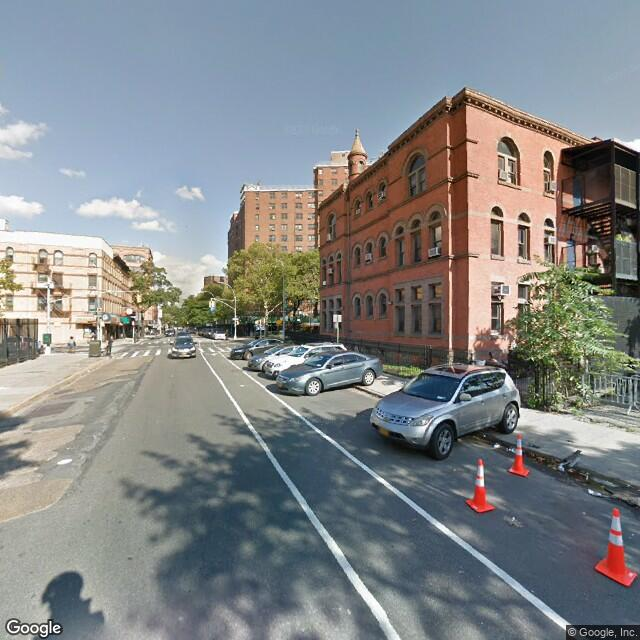litter: (556, 444, 579, 479)
